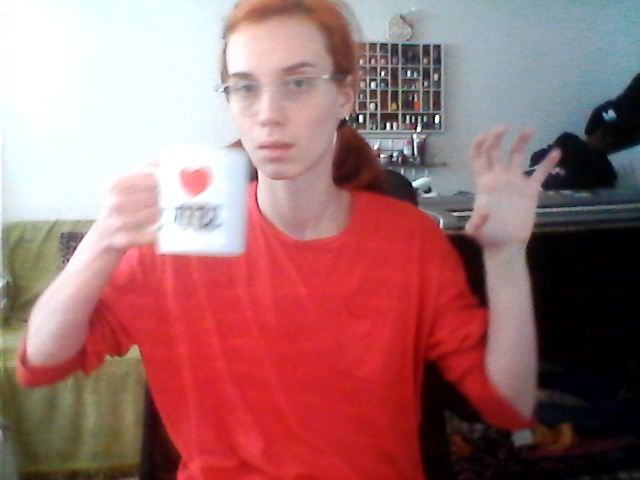budova: (456, 124, 558, 268)
